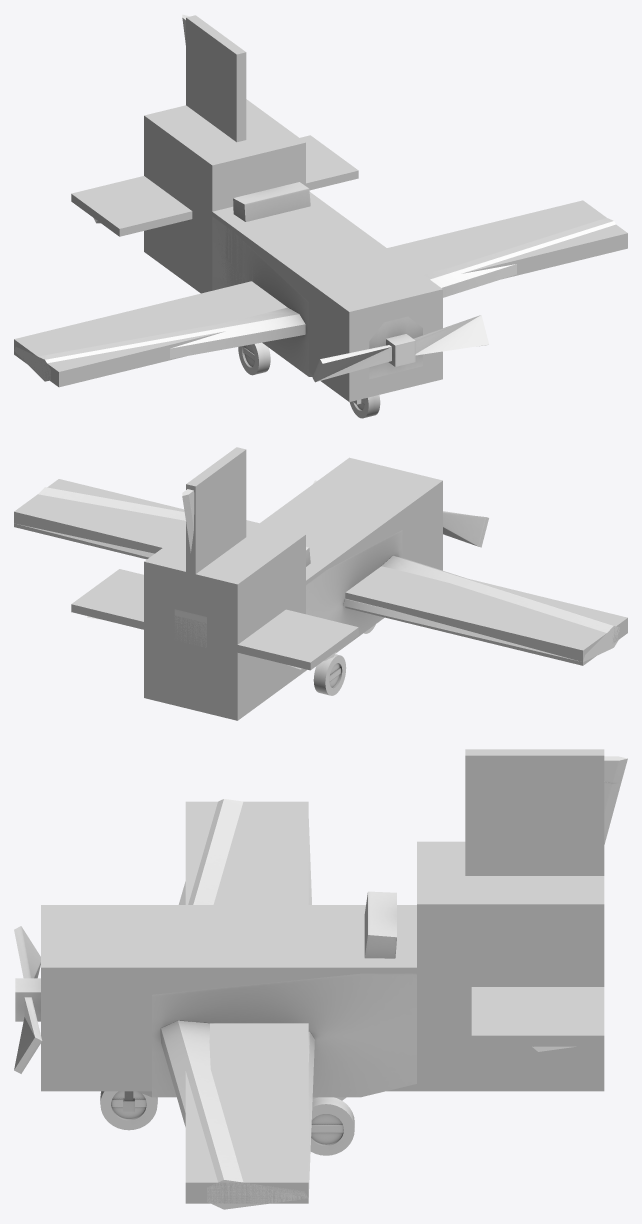
File: airplane.glb
3 renders of one model, top to bottom at view 1: azimuth 30°, elevation 25°; view 2: azimuth 150°, elevation 25°; view 3: azimuth 270°, elevation 25°, orthographic. The views are drawn at different scales.
Parts seen in each view (by area): view 1: Cube.008, body, Cube.009, Cube.014, Cube.013, Cube.010, Cube.012, rotor, Cube.011, wheel_fl.002; view 2: Cube.008, Cube.014, Cube.009, body, Cube.013, Cube.010, Cube.012, Cube.011, rotor, wheel_fl.002, aileron.R, aileron.L; view 3: Cube.008, body, Cube.009, Cube.013, Cube.010, Cube.014, Cube.011, rotor, wheel_fl.001, wheel_fl.
Part boxes in pixels (bbox=[...]): Cube.008: bbox=[144, 162, 442, 401]; body: bbox=[14, 14, 615, 404]; Cube.009: bbox=[144, 99, 305, 211]; Cube.014: bbox=[14, 281, 287, 387]; Cube.013: bbox=[387, 200, 627, 279]; Cube.010: bbox=[186, 15, 246, 142]; Cube.012: bbox=[71, 176, 192, 236]; rotor: bbox=[312, 315, 488, 382]; Cube.011: bbox=[300, 135, 358, 190]; wheel_fl.002: bbox=[238, 342, 270, 375]; Cube.008: bbox=[144, 457, 442, 720]; Cube.014: bbox=[345, 566, 627, 665]; Cube.009: bbox=[144, 520, 305, 630]; body: bbox=[17, 487, 619, 669]; Cube.013: bbox=[14, 479, 185, 559]; Cube.010: bbox=[186, 447, 246, 574]; Cube.012: bbox=[237, 609, 358, 670]; Cube.011: bbox=[71, 569, 143, 629]; rotor: bbox=[313, 480, 488, 547]; wheel_fl.002: bbox=[313, 654, 346, 695]; aileron.R: bbox=[436, 622, 560, 656]; aileron.L: bbox=[36, 528, 154, 557]; Cube.008: bbox=[41, 905, 604, 1091]; body: bbox=[123, 756, 627, 1209]; Cube.009: bbox=[417, 841, 604, 967]; Cube.013: bbox=[185, 1023, 308, 1203]; Cube.010: bbox=[465, 749, 604, 875]; Cube.014: bbox=[185, 801, 308, 904]; Cube.011: bbox=[471, 987, 604, 1046]; rotor: bbox=[14, 926, 42, 1073]; wheel_fl.001: bbox=[310, 1097, 354, 1155]; wheel_fl: bbox=[100, 1091, 157, 1130].
Bounding box in the file's own units: 3.56 × 1.63 × 2.43.
2 materials, 2 textured.
